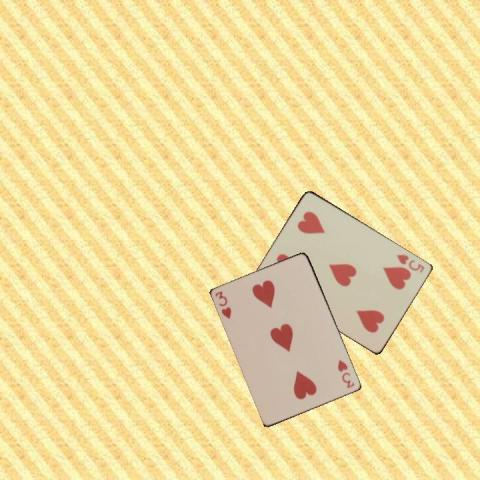3h: (212, 288, 233, 321), (335, 357, 356, 389)
5h: (393, 251, 426, 274)
